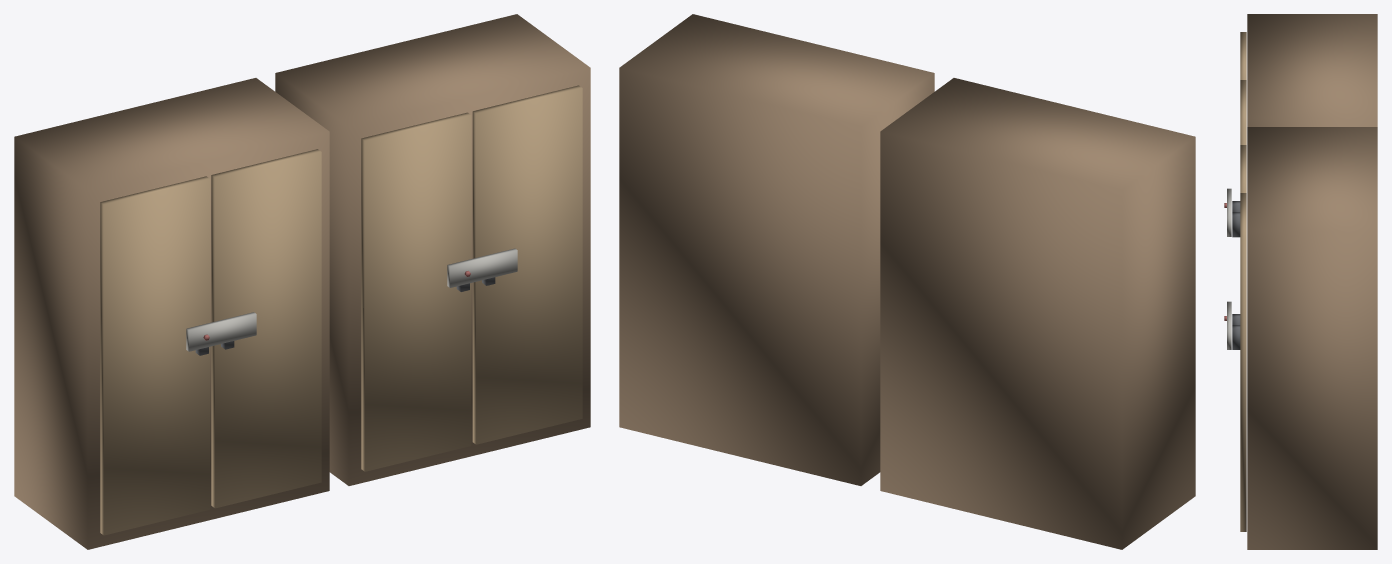
Rendered from mechanical_control_cabinet__cluster.glb.
The picture shows the model from 3 angles, left to right: view 1: azimuth 30°, elevation 25°; view 2: azimuth 150°, elevation 25°; view 3: azimuth 270°, elevation 25°; orthographic projection. The views are drawn at different scales.
Visible parts, largest first — view 1: world; view 2: world; view 3: world.
Boxes of the visible parts, x1,y1,x2,y2 form: world: (14, 14, 590, 549); world: (619, 14, 1195, 549); world: (1224, 14, 1377, 549).
Bounding box in the file's own units: 1.98 × 1.35 × 0.5885.
